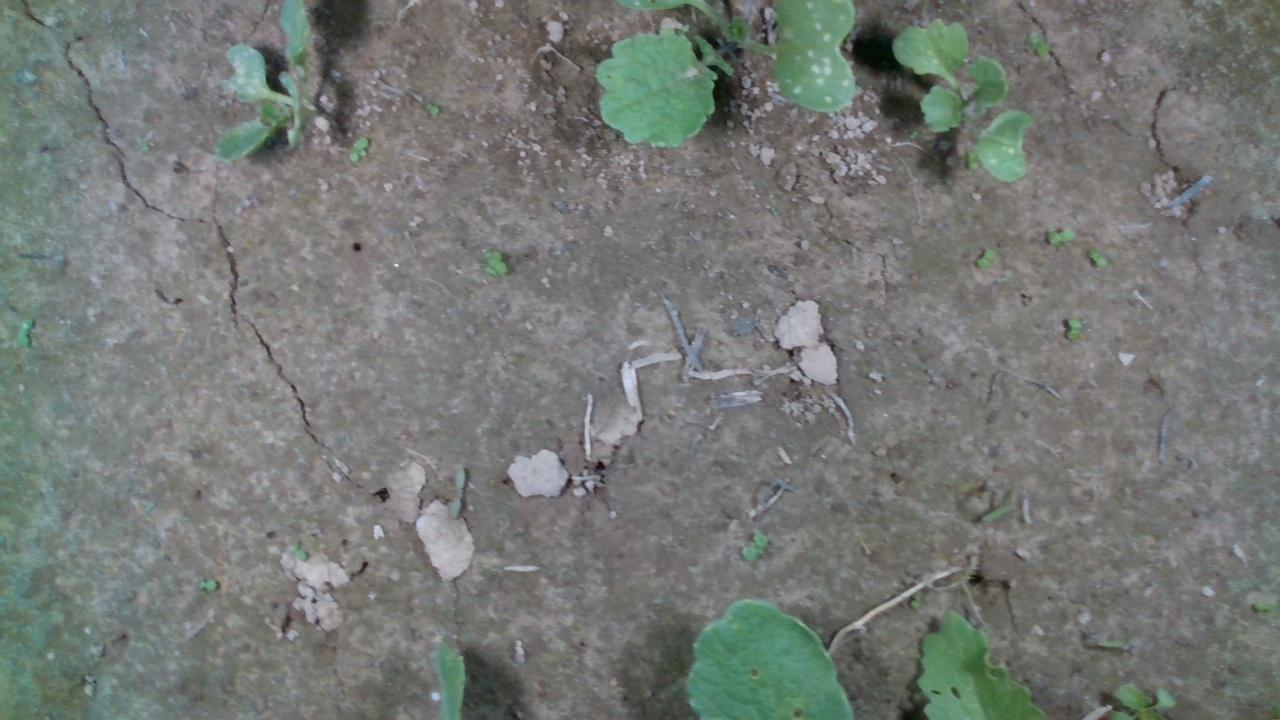weed: (739, 530, 768, 562), (346, 133, 369, 162), (1044, 225, 1075, 243), (973, 247, 995, 269), (288, 539, 309, 561), (1064, 315, 1082, 339), (1087, 247, 1107, 268), (193, 575, 218, 591), (423, 100, 441, 119)
